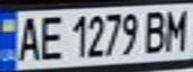1: (63, 11, 87, 60)
2: (84, 10, 106, 58)
7: (103, 10, 124, 57)
9: (121, 9, 142, 57)
A: (12, 12, 45, 63)
B: (139, 8, 172, 54)
E: (33, 11, 66, 62)
M: (160, 6, 193, 52)
